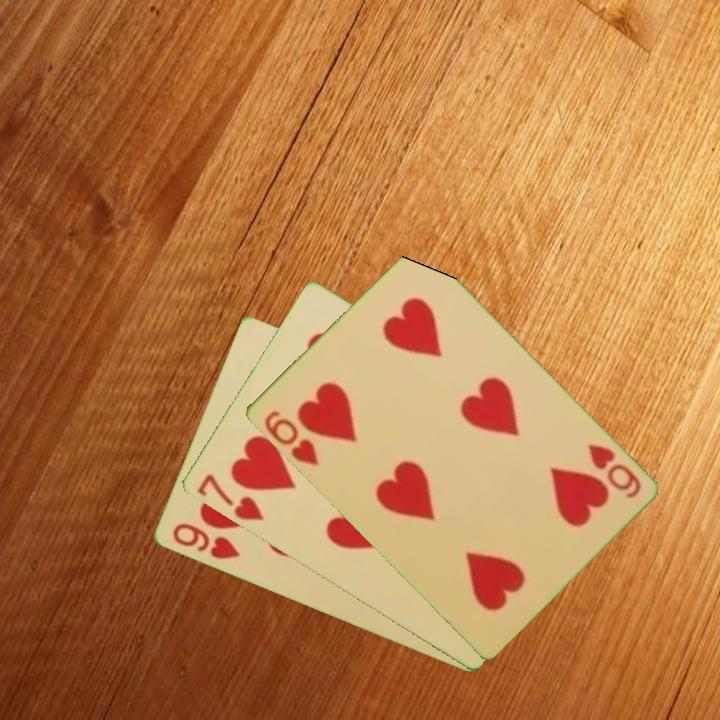6h: (260, 407, 321, 469), (583, 440, 644, 502)
7h: (193, 470, 267, 524)
9h: (168, 520, 242, 563)
